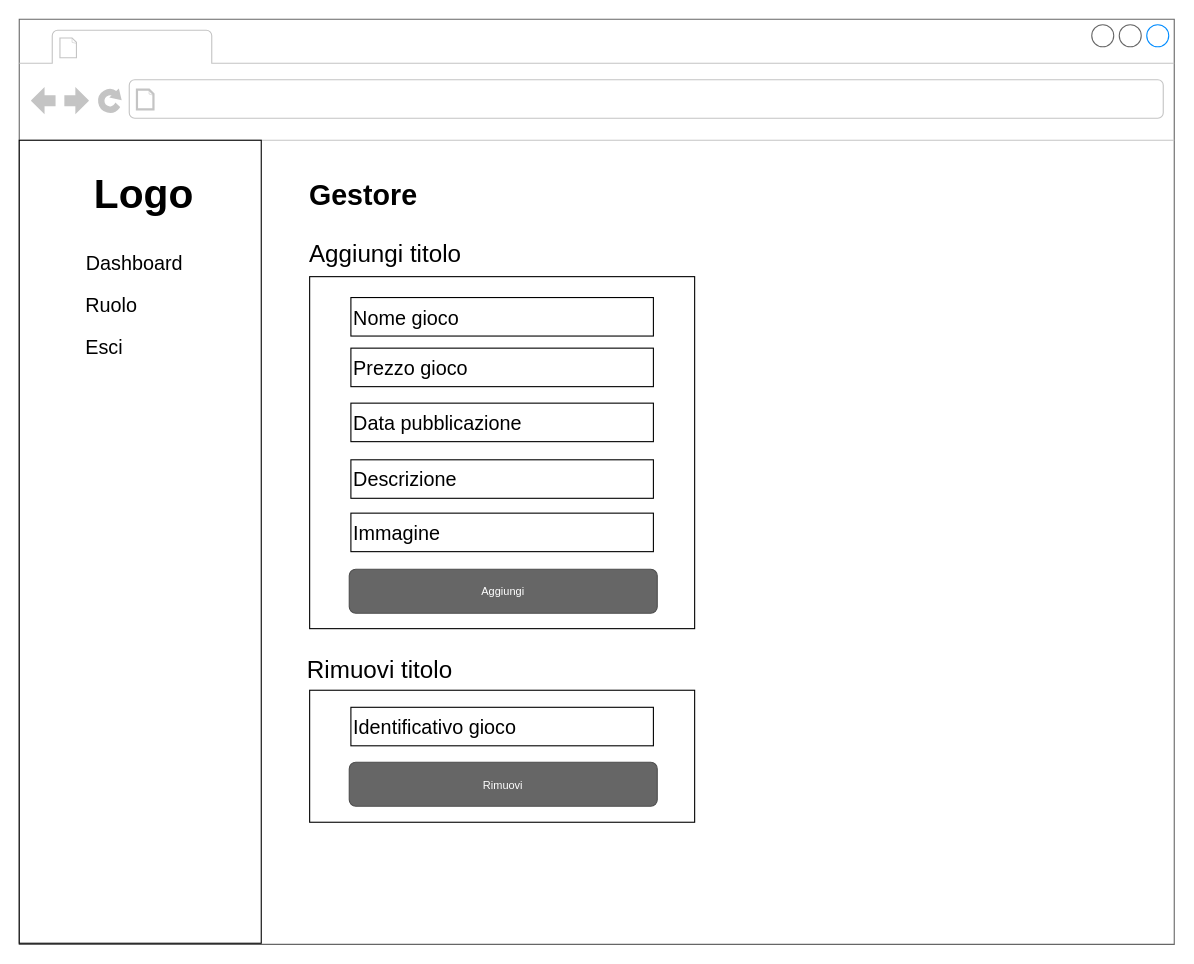
The diagram is 1194 pixels wide and 964 high, and some of its shapes have lost their labels. The centre of each missing label's shape, as x and y in pixels:
https://www.default.com: the point at 299,99
Page 1: the point at 145,46
